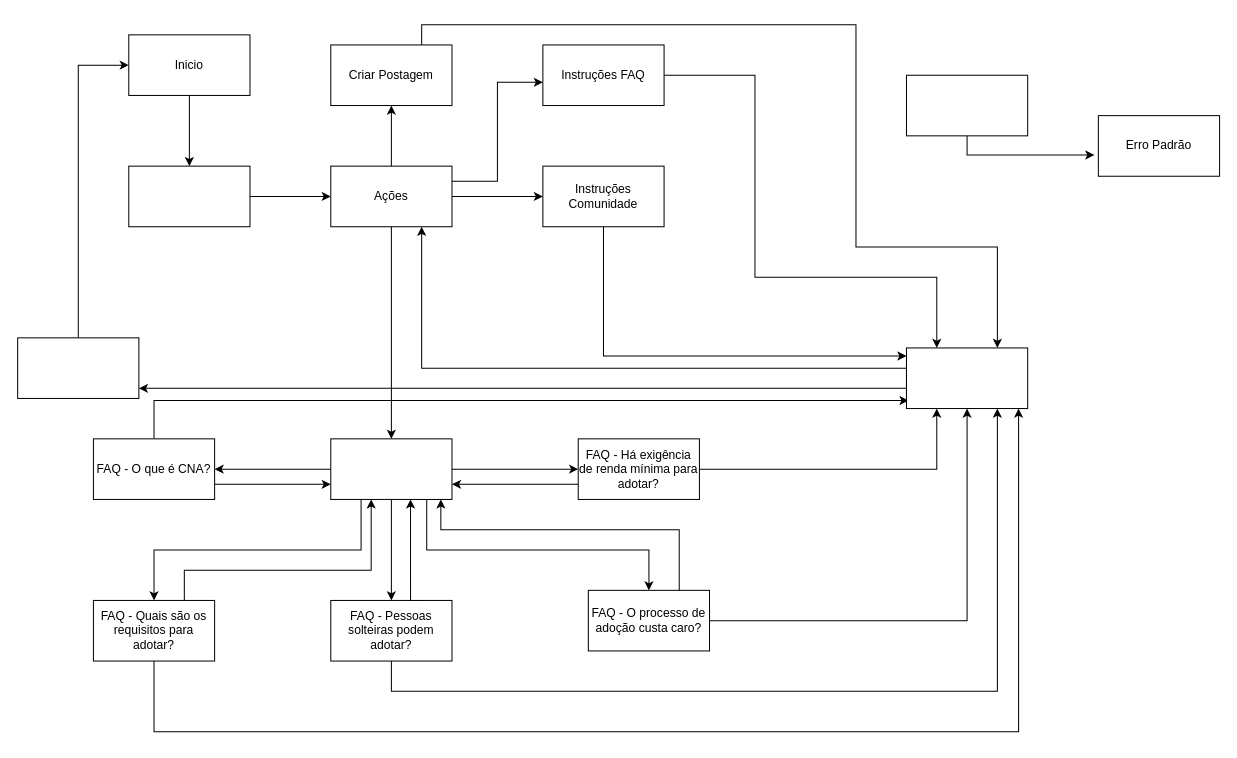
The diagram is 1237 pixels wide and 758 high, and some of its shapes have lost their labels. Here are the shapes that lost their labels. From the top down, the centre of each, then its label:
At (x=966, y=105): "Exceções".
At (x=189, y=196): "Boas Vindas".
At (x=78, y=367): "Agradecimento".
At (x=966, y=378): "Posso ajudar com algo mais?".
At (x=391, y=468): "Principais Perguntas".
